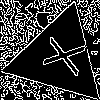X: (33, 32, 87, 77)
